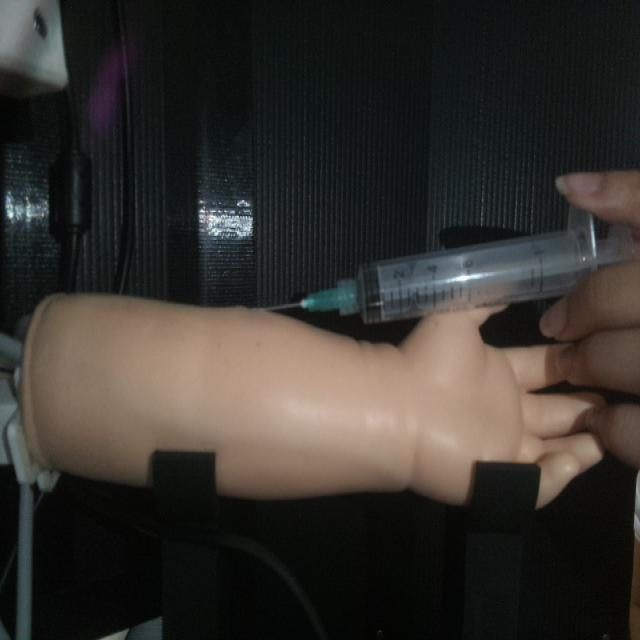Outside: (254, 202, 636, 324)
